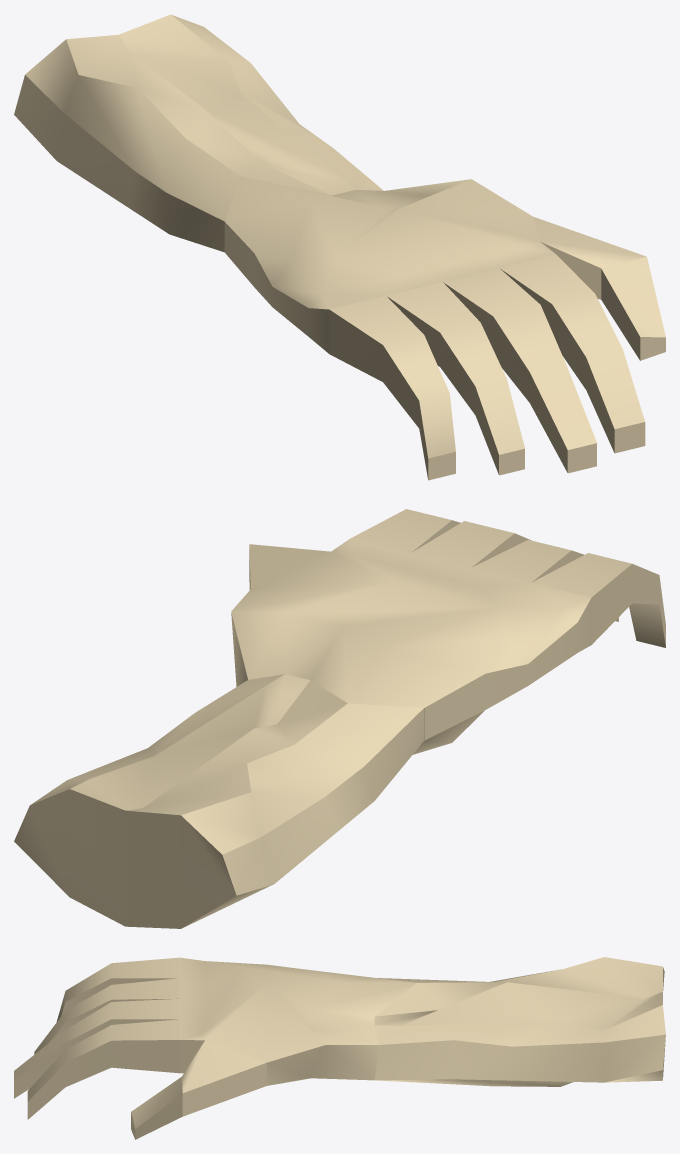
File: hand.fbx
The picture shows the model from 3 angles, top to bottom: view 1: azimuth 30°, elevation 25°; view 2: azimuth 150°, elevation 25°; view 3: azimuth 270°, elevation 25°; orthographic projection. The views are drawn at different scales.
Visible parts, largest first — view 1: pCube1; view 2: pCube1; view 3: pCube1.
Boxes of the visible parts, bbox=[...] form: pCube1: bbox=[14, 14, 665, 480]; pCube1: bbox=[14, 509, 665, 928]; pCube1: bbox=[14, 957, 665, 1139].
Size of the model in its own units: 31.14 by 12.95 by 73.
